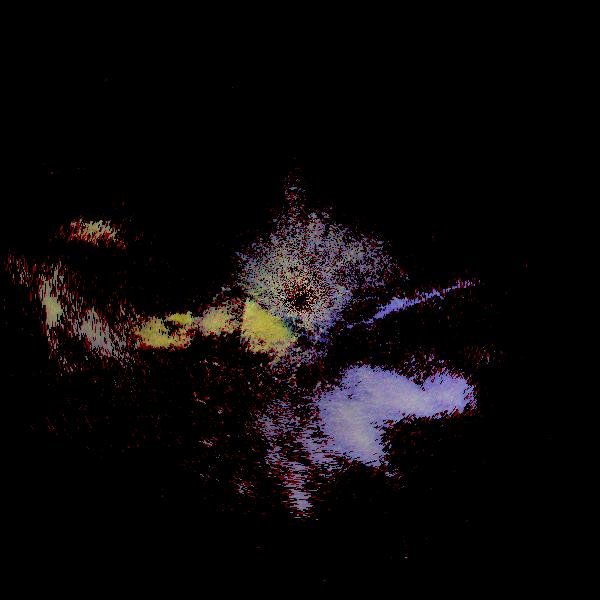roost: (107, 258, 332, 483), (55, 270, 256, 471)
